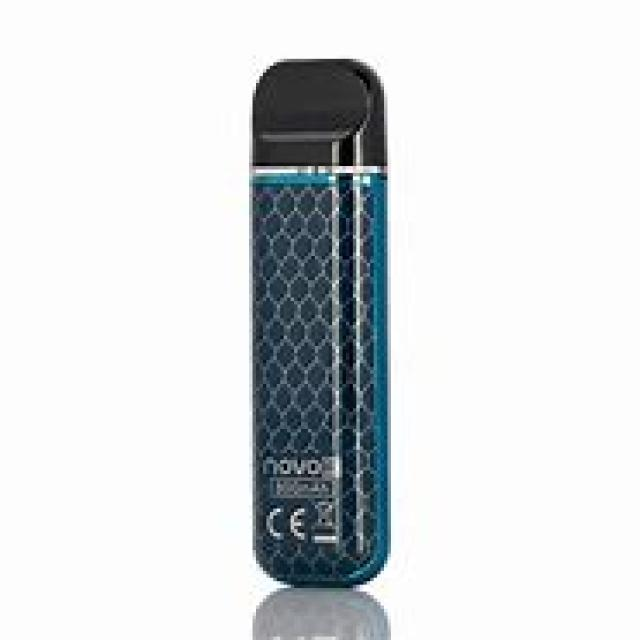Vapes: (246, 55, 391, 585)
